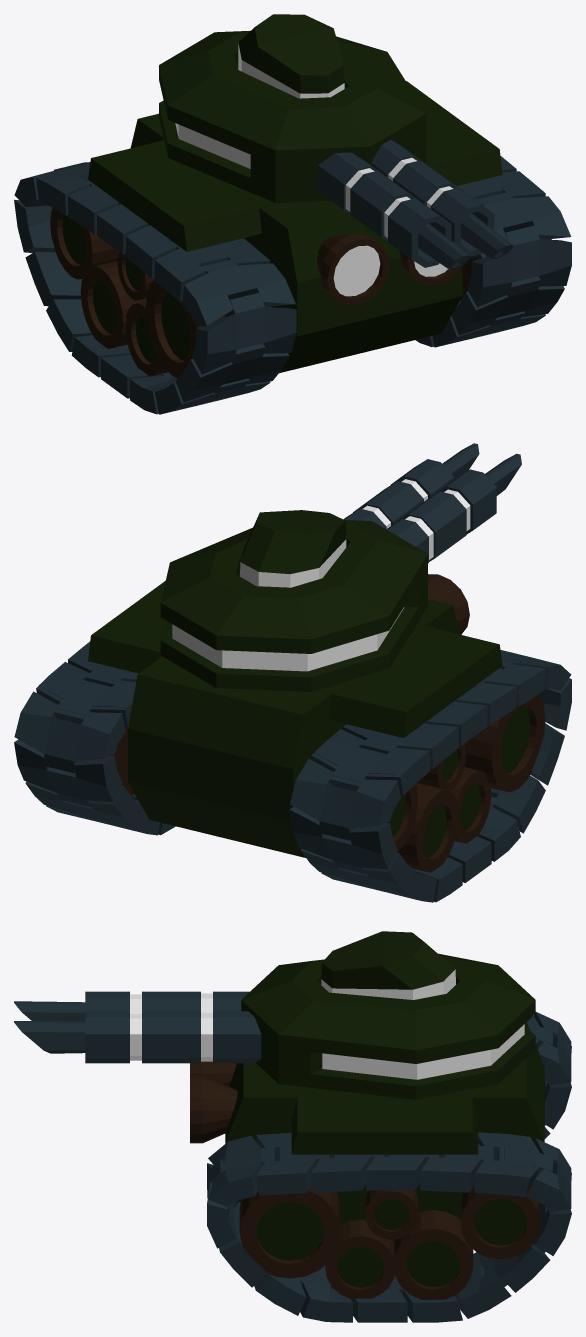
The model's file is tank with lazer cannon.fbx.
The picture shows the model from 3 angles, top to bottom: view 1: azimuth 30°, elevation 25°; view 2: azimuth 150°, elevation 25°; view 3: azimuth 270°, elevation 25°; orthographic projection. The views are drawn at different scales.
Visible parts, largest first — view 1: Cube.072; view 2: Cube.072; view 3: Cube.072.
Part boxes in pixels (box(x1,y1,x2,y2)): Cube.072: box(14, 14, 571, 414); Cube.072: box(14, 443, 571, 902); Cube.072: box(14, 931, 571, 1322).
Size of the model in its own units: 274 by 226 by 386.
